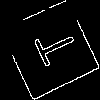T: (25, 24, 80, 72)
